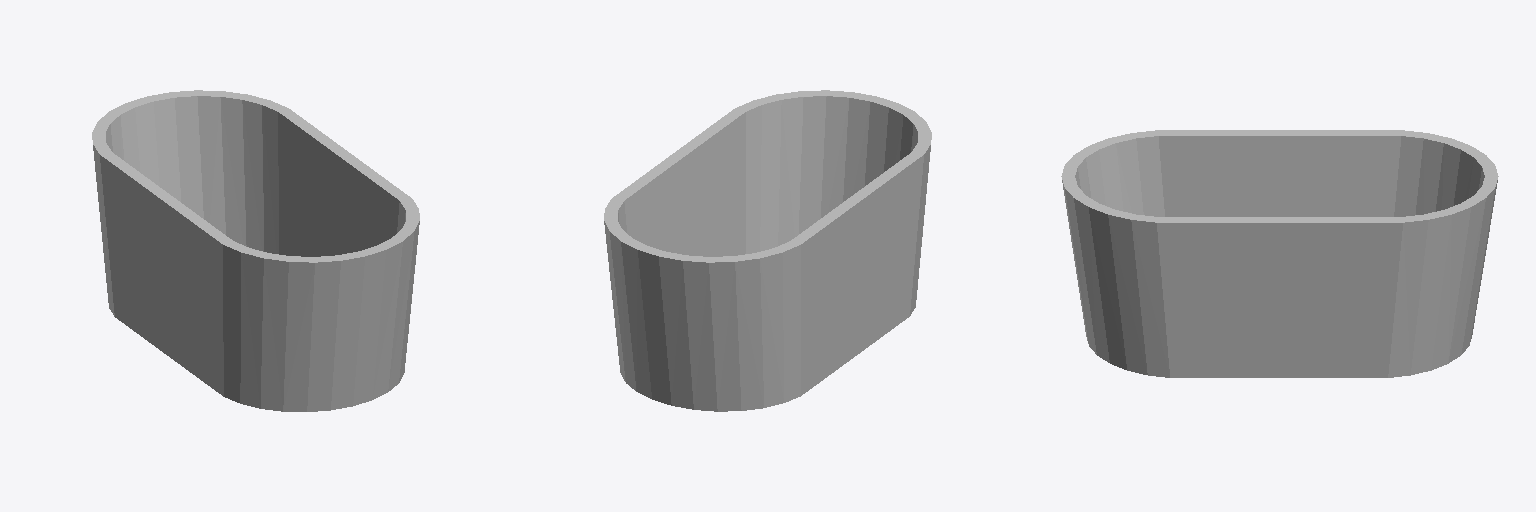
File: SENSATION_BLANCA.obj
The picture shows the model from 3 angles: view 1: azimuth 30°, elevation 25°; view 2: azimuth 150°, elevation 25°; view 3: azimuth 270°, elevation 25°; orthographic projection.
Parts seen in each view (by area): view 1: Mesh1 Group1 Model; view 2: Mesh1 Group1 Model; view 3: Mesh1 Group1 Model.
Part boxes in pixels (x1,y1,x2,y2): Mesh1 Group1 Model: (92,90,419,411); Mesh1 Group1 Model: (604,90,931,411); Mesh1 Group1 Model: (1061,130,1498,377).
Size of the model in its own units: 76 by 61 by 152.